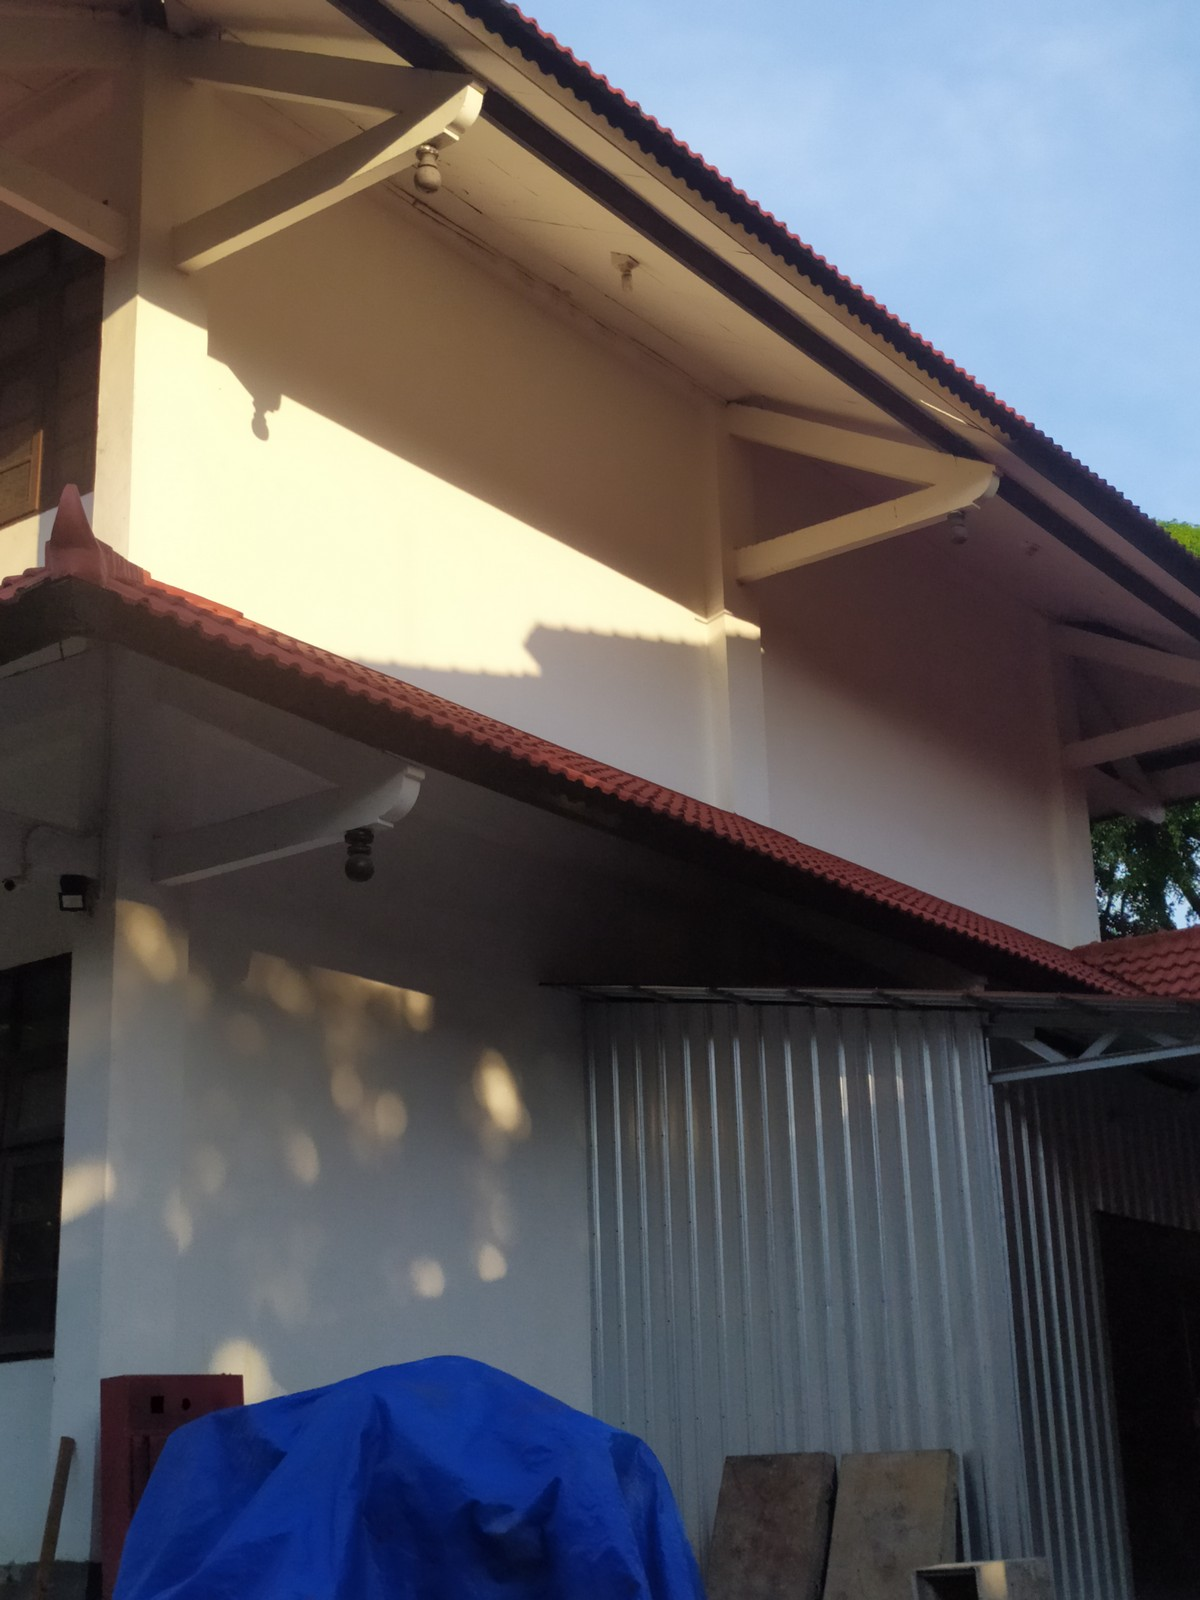concrete beam: (165, 132, 398, 281), (730, 496, 932, 586)
concrete column: (45, 677, 213, 1487), (82, 29, 218, 593), (691, 384, 775, 816)
